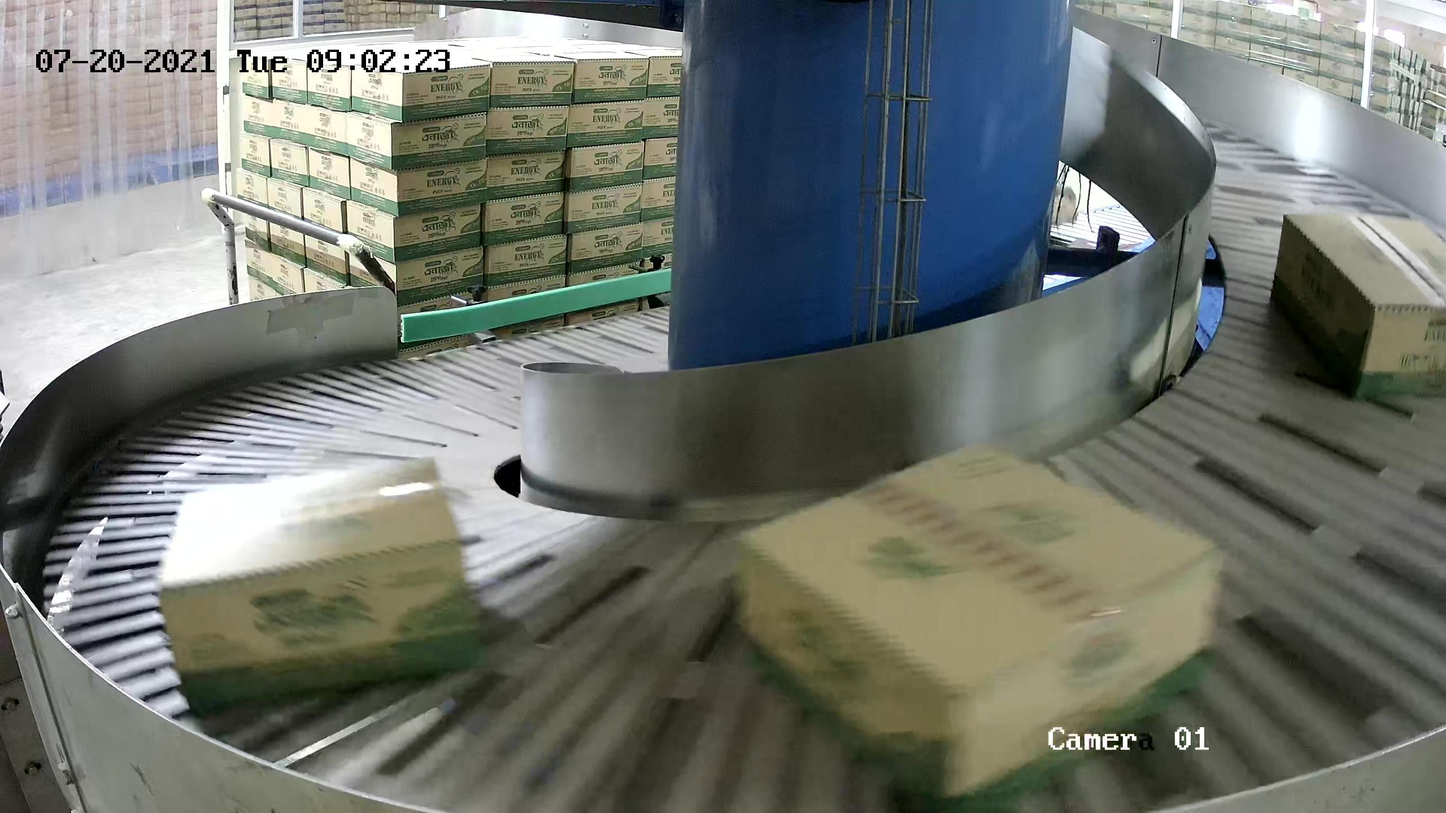Box: (730, 440, 1228, 813), (154, 453, 481, 716), (1269, 211, 1446, 401)
